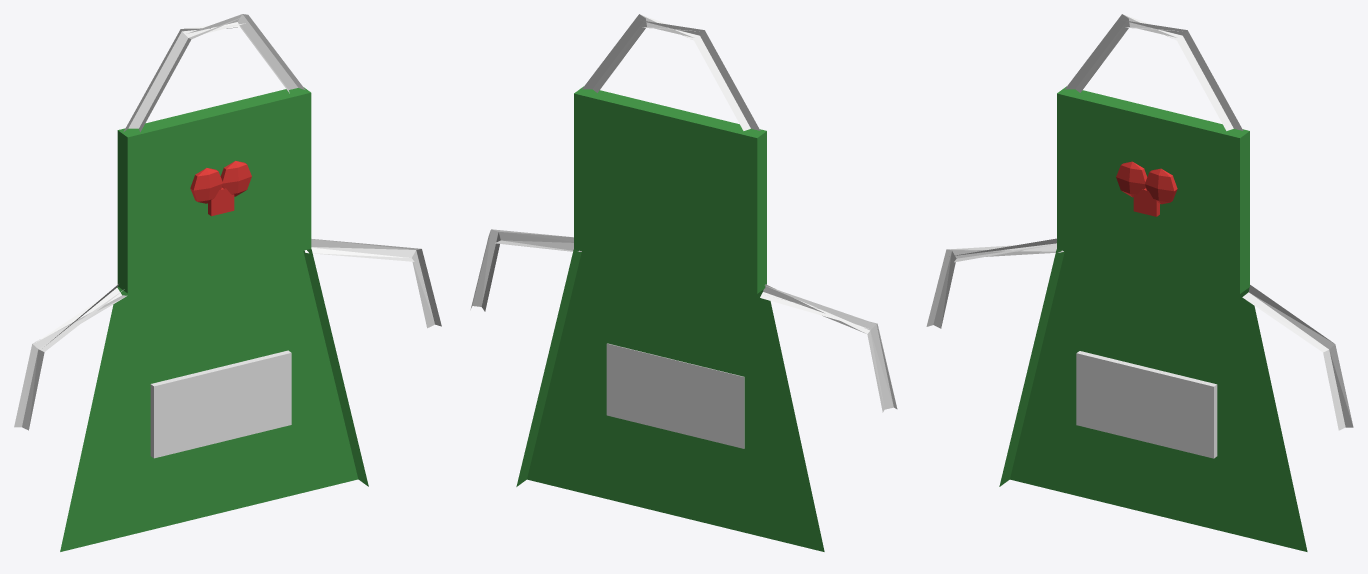
Rendered from forklade.glb.
The picture shows the model from 3 angles, left to right: view 1: azimuth 30°, elevation 25°; view 2: azimuth 150°, elevation 25°; view 3: azimuth 330°, elevation 25°; orthographic projection.
Visible parts, largest first — view 1: forklade; view 2: forklade; view 3: forklade.
Boxes of the visible parts, box(x1,y1,x2,y2) form: forklade: box(14, 14, 441, 551); forklade: box(470, 14, 897, 551); forklade: box(926, 14, 1353, 551).
Bounding box in the file's own units: 0.7423 × 0.8291 × 0.068.
